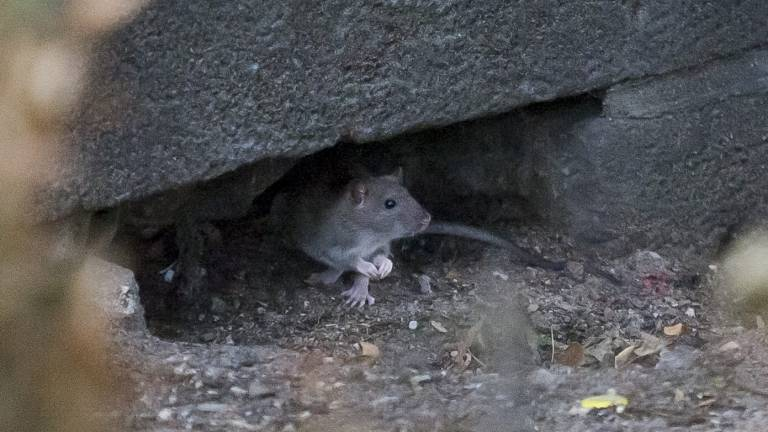rat: (259, 153, 481, 317)
